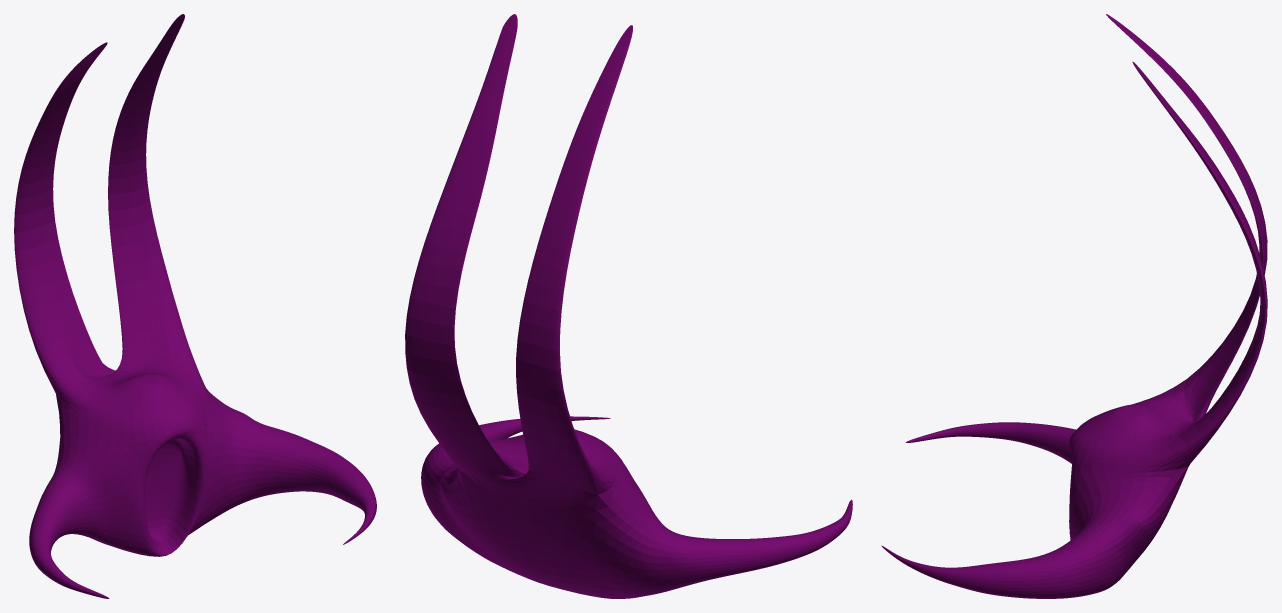
3 renders of one model, left to right at view 1: azimuth 30°, elevation 25°; view 2: azimuth 150°, elevation 25°; view 3: azimuth 270°, elevation 25°, orthographic. The views are drawn at different scales.
Parts seen in each view (by area): view 1: Cube-S3D-14; view 2: Cube-S3D-14; view 3: Cube-S3D-14.
Part boxes in pixels (x1,y1,x2,y2): Cube-S3D-14: (14,14,376,598); Cube-S3D-14: (405,14,852,598); Cube-S3D-14: (881,14,1267,598).
Size of the model in its own units: 5.14 by 7.69 by 5.1.
